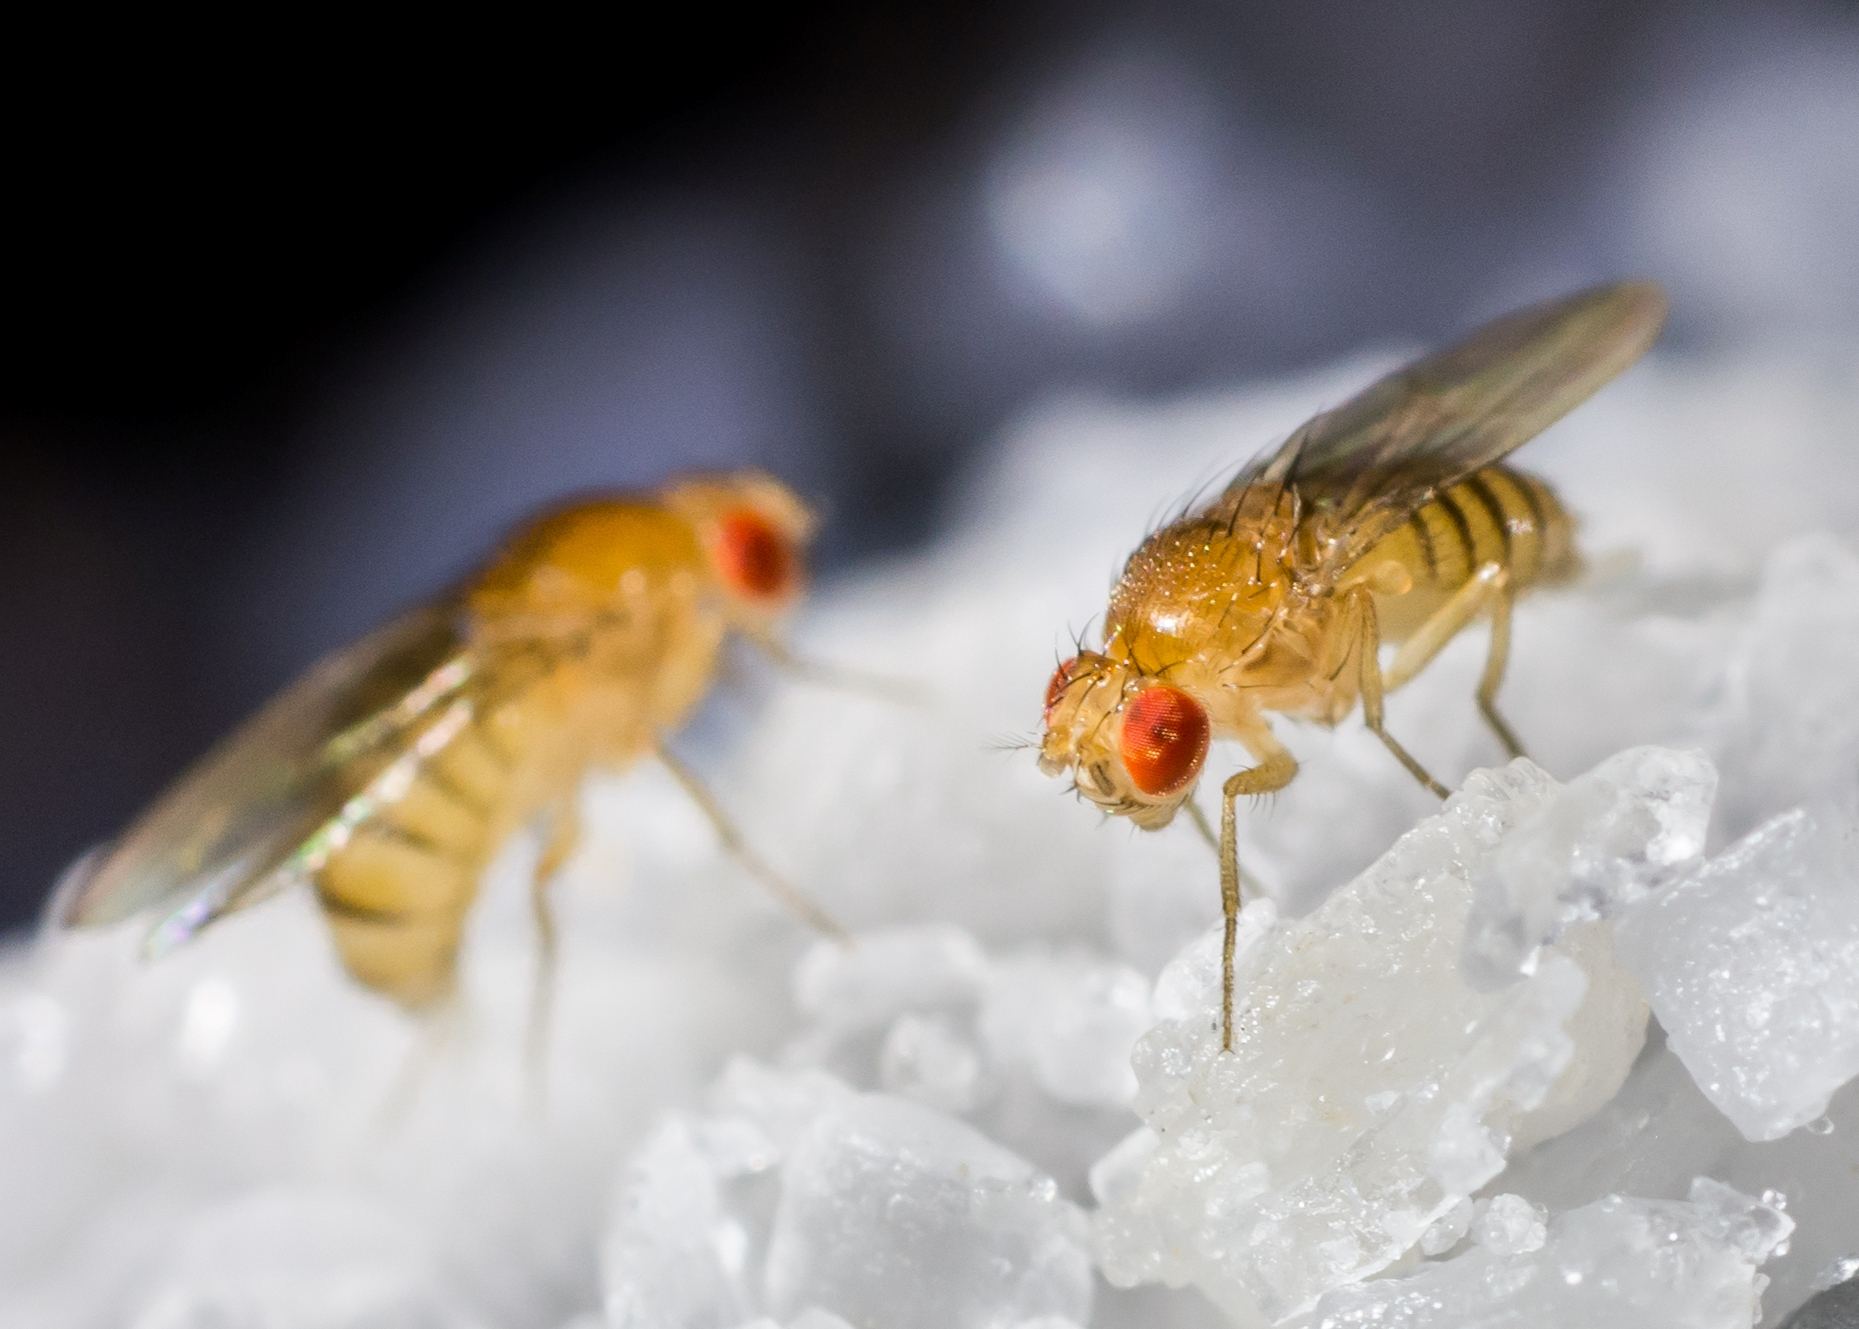Fruit fly: (122, 374, 884, 1064), (1022, 274, 1655, 1019)
